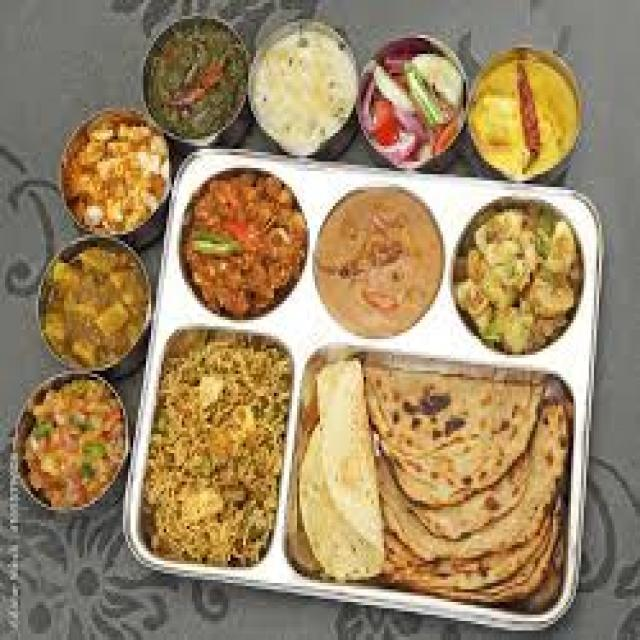papad: (145, 331, 288, 560), (296, 370, 377, 553)
rice: (141, 339, 284, 558), (15, 374, 128, 517)
veg-fry: (176, 170, 303, 315), (38, 232, 157, 367)
